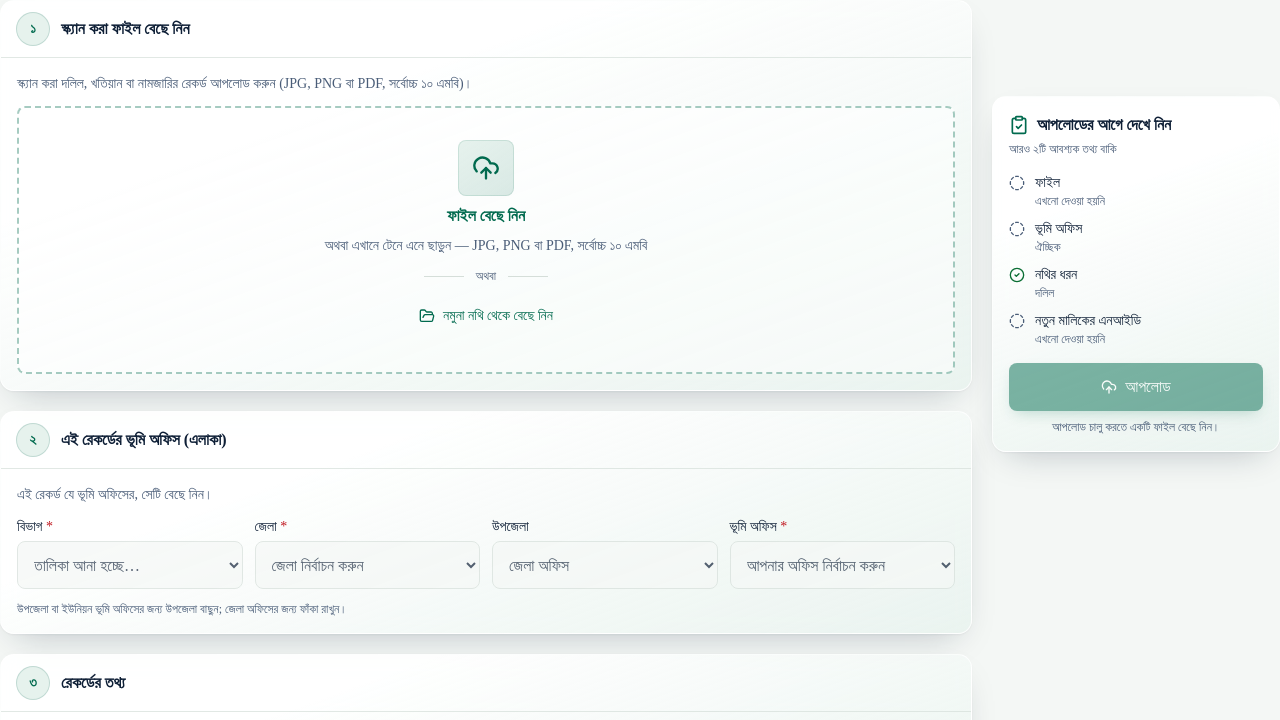
Scenario: demo document picker: upload › keeps the dialog open with an error when a sample cannot be fetched
Click the button "নমুনা নথি থেকে বেছে নিন": click(486, 316) [407,292,565,340]
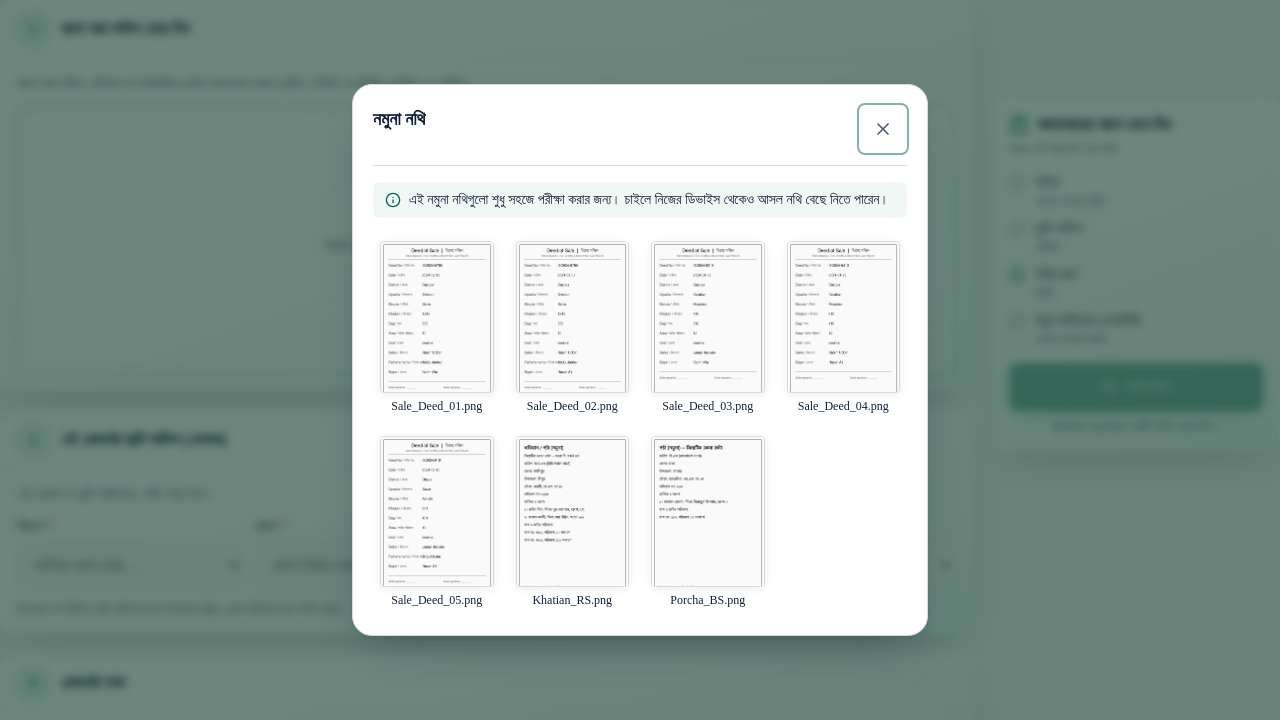
Click the button with test id "demo-doc-doc1": click(437, 327) [373,234,500,420]
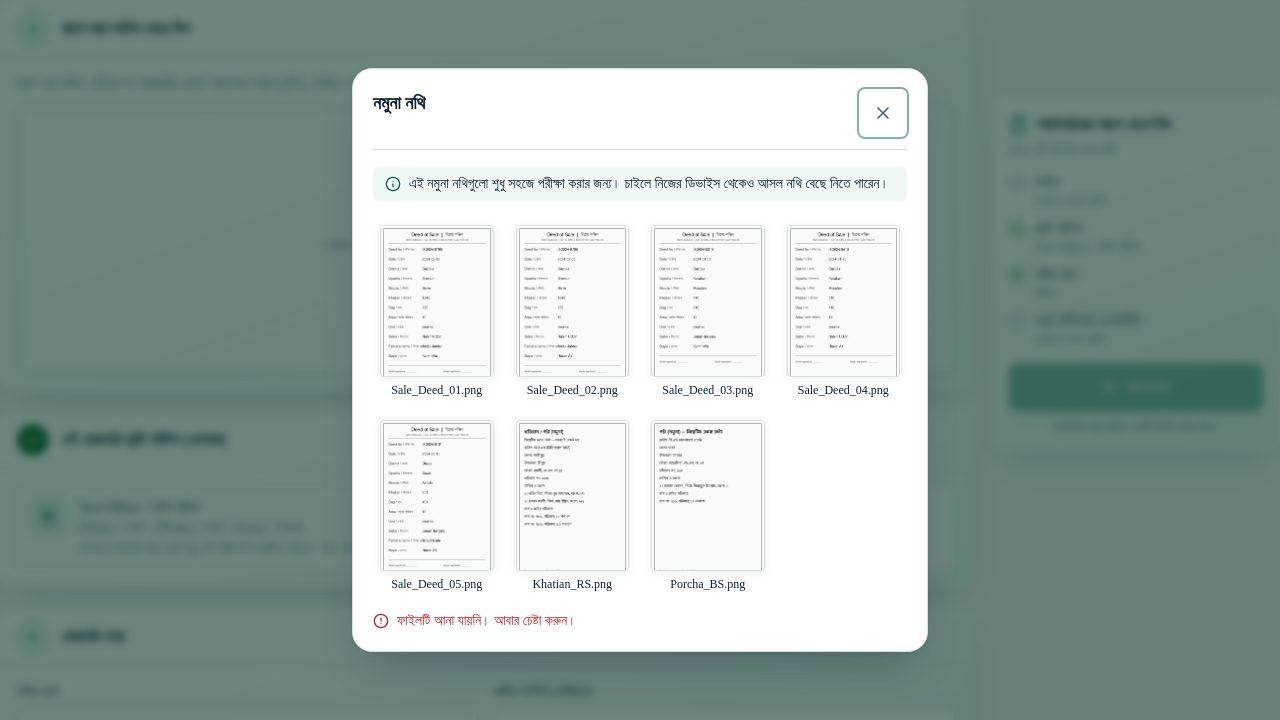
expect the dialog is shown: met, box [352,68,928,652]
expect the text "ফাইলটি আনা যায়নি। আবার চেষ্টা করুন।" is shown: met, box [373,613,577,629]
